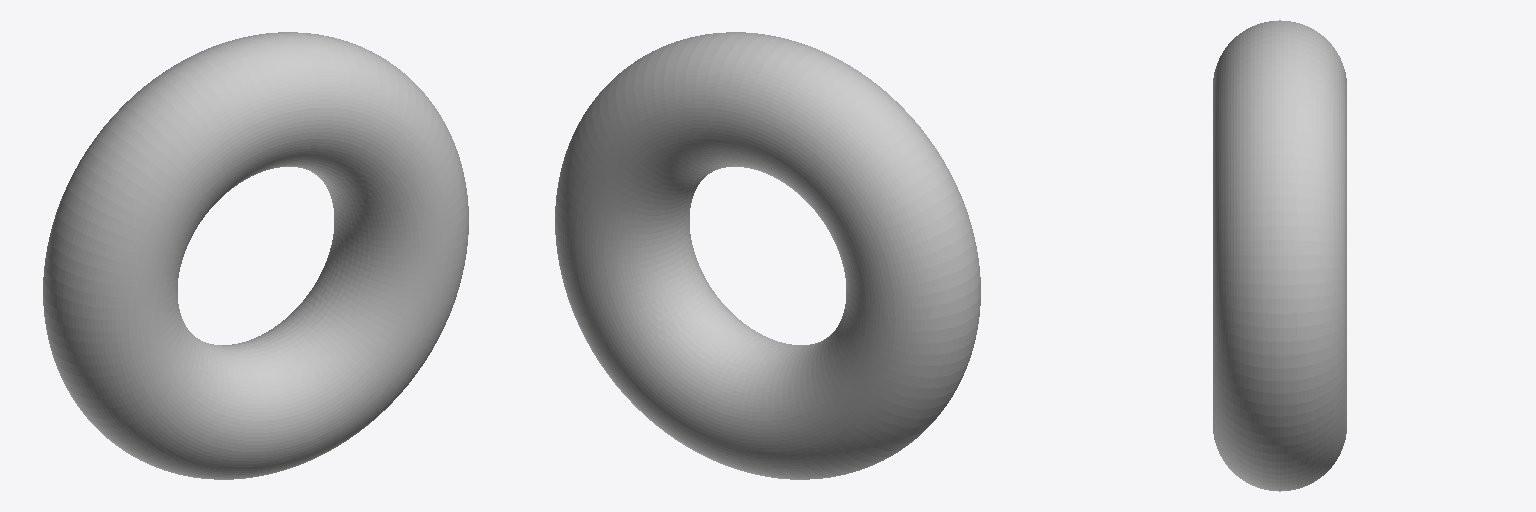
Rendered from Candy.obj.
3 renders of one model, left to right at view 1: azimuth 30°, elevation 25°; view 2: azimuth 150°, elevation 25°; view 3: azimuth 270°, elevation 25°, orthographic.
Parts seen in each view (by area): view 1: Object.1; view 2: Object.1; view 3: Object.1.
Boxes of the visible parts, x1=… form: Object.1: x1=43, y1=32, x2=468, y2=479; Object.1: x1=555, y1=32, x2=980, y2=479; Object.1: x1=1213, y1=20, x2=1346, y2=491.
Bounding box in the file's own units: 70 × 70 × 20.